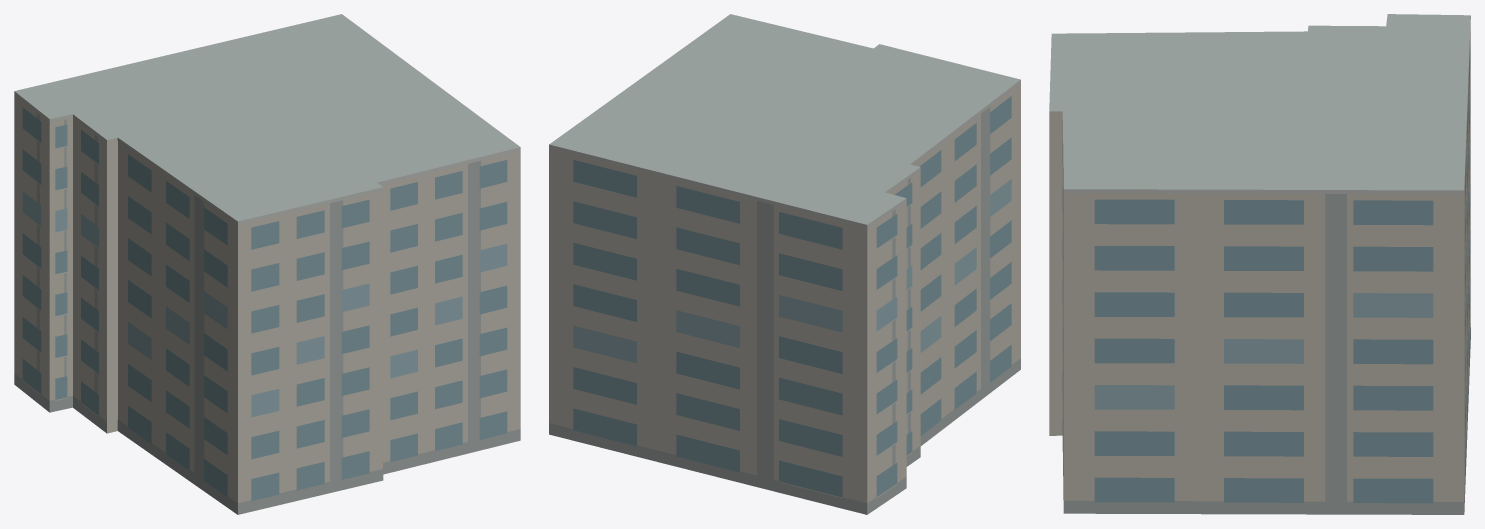
File: survey-upis-32800108.glb
3 renders of one model, left to right at view 1: azimuth 30°, elevation 25°; view 2: azimuth 150°, elevation 25°; view 3: azimuth 270°, elevation 25°, orthographic. The views are drawn at different scales.
Visible parts, largest first — view 1: survey-upis-32800108.tmp; view 2: survey-upis-32800108.tmp; view 3: survey-upis-32800108.tmp.
Boxes of the visible parts, box(x1,y1,x2,y2) form: survey-upis-32800108.tmp: box(14, 14, 520, 514); survey-upis-32800108.tmp: box(549, 14, 1020, 514); survey-upis-32800108.tmp: box(1049, 14, 1470, 514).
Bounding box in the file's own units: 23.13 × 19.83 × 23.36.
